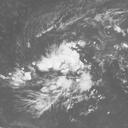cyclone: (36, 39, 97, 107)
